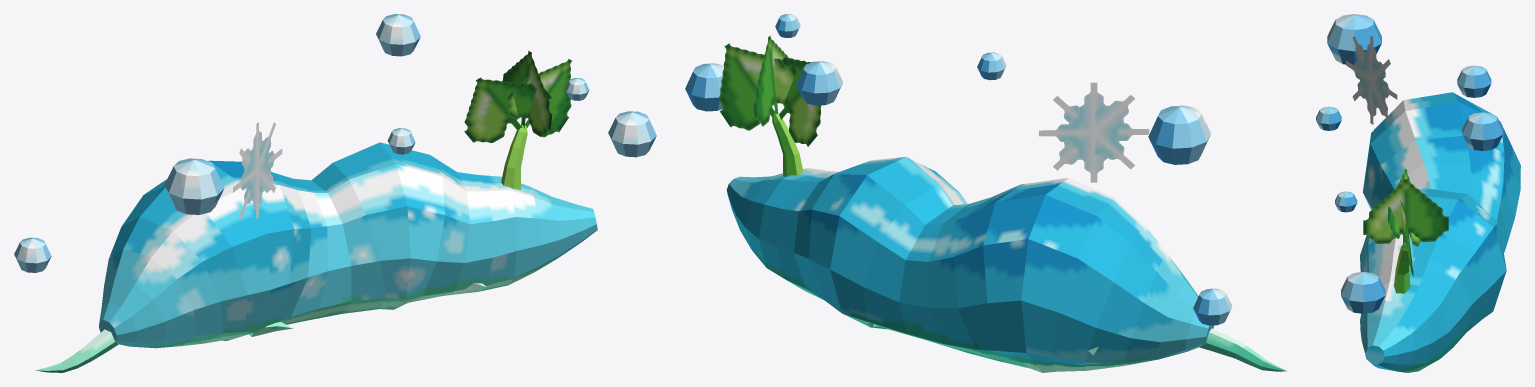
File: aero_yam.obj
3 views of the same model, side by side, from view 1: azimuth 30°, elevation 25°; view 2: azimuth 150°, elevation 25°; view 3: azimuth 270°, elevation 25° (orthographic). The views are drawn at different scales.
Parts seen in each view (by area): view 1: body_5, body_2, body_1, body_6, body_3, body_4, body_7, body_8, body_0, leaf1, bubble0, leaf0 (+10 smaller); view 2: body_2, body_5, body_3, body_1, body_4, body_6, body_7, leaf0, bubble0, sparkle_a, sparkle_b, body_0 (+10 smaller); view 3: body_3, body_6, body_8, body_4, body_7, leaf2, body_9, bubble0, bubble2, bubble1, body_2, sparkle_a (+8 smaller).
Part boxes in pixels (x1,y1,x2,y2): body_5: (311,142,410,313); body_2: (121,160,270,343); body_1: (104,217,222,348); body_6: (380,142,469,309); body_3: (210,160,311,331); body_4: (273,172,351,324); body_7: (443,172,516,295); body_8: (509,183,561,284); body_0: (99,278,166,348); leaf1: (464,77,551,142); bubble0: (164,158,224,214); leaf0: (506,59,571,137); body_2: (1021,178,1143,372); body_5: (830,157,967,338); body_3: (953,178,1067,372); body_1: (1085,224,1186,370); body_4: (899,197,998,360); body_6: (794,157,905,312); body_7: (758,168,839,299); leaf0: (719,43,796,130); bubble0: (1148,105,1210,164); sparkle_a: (1039,82,1149,182); sparkle_b: (1053,95,1134,170); body_0: (1156,279,1214,359); body_3: (1363,102,1520,215); body_6: (1360,196,1506,331); body_8: (1360,281,1448,372); body_4: (1386,164,1515,252); body_7: (1360,256,1471,358); leaf2: (1363,179,1448,244); body_9: (1361,319,1415,371); bubble0: (1327,14,1381,65); bubble2: (1341,272,1385,313); bubble1: (1462,112,1503,150); body_2: (1363,92,1499,187); sparkle_a: (1346,35,1397,124).
Bounding box in the file's own units: 36.97 × 15.42 × 11.97.
Materials: 1 (1 with a texture image).
